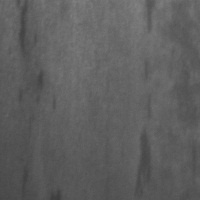inclusion: (10, 2, 53, 114), (166, 0, 199, 134), (132, 125, 161, 199), (140, 59, 161, 123), (142, 1, 160, 38), (17, 167, 31, 199), (140, 53, 154, 84)
